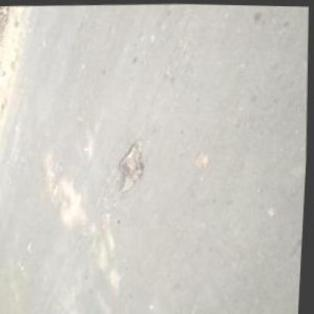Hueco: (116, 135, 147, 193)
